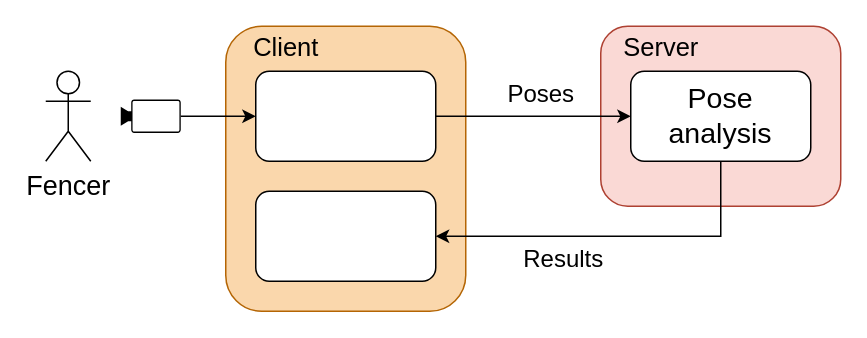
The diagram is 867 pixels wide and 338 high, and some of its shapes have lost their labels. The centre of each missing label's shape, as x and y in pixels:
"Feedback" belongs at point 345,235.
"Pose detection" belongs at point 345,115.
